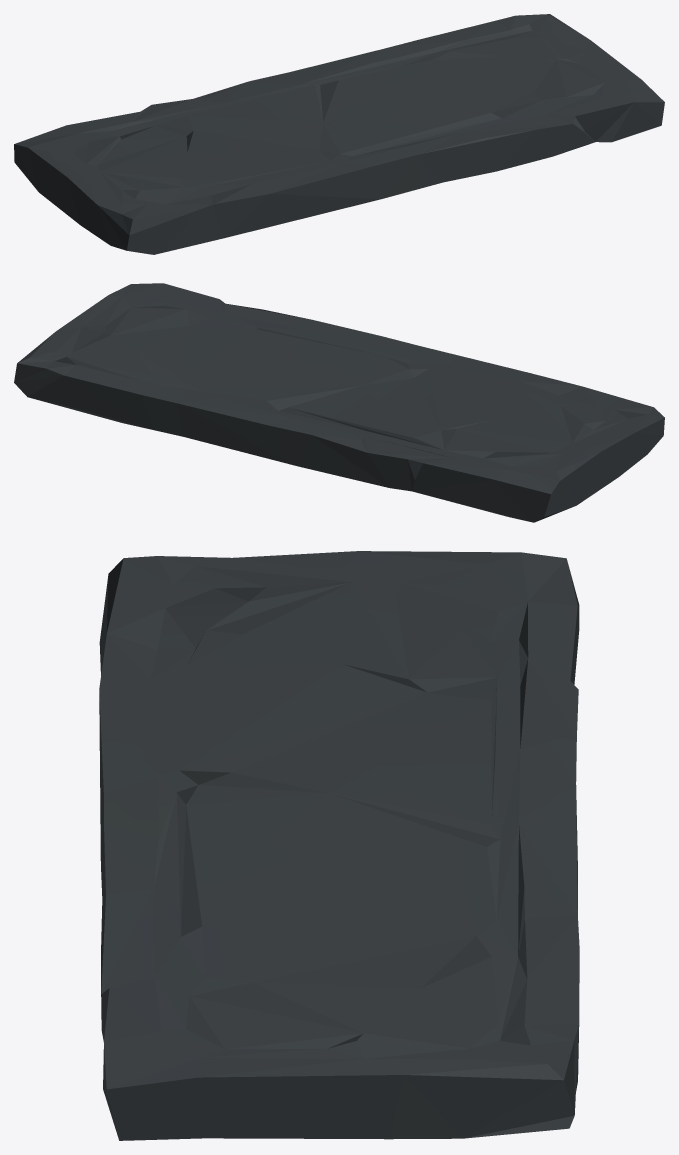
The model's file is Floor_03.FBX.
The picture shows the model from 3 angles, top to bottom: view 1: azimuth 30°, elevation 25°; view 2: azimuth 150°, elevation 25°; view 3: azimuth 270°, elevation 25°; orthographic projection. The views are drawn at different scales.
Parts seen in each view (by area): view 1: Floor_03; view 2: Floor_03; view 3: Floor_03.
Boxes of the visible parts, x1,y1,x2,y2 form: Floor_03: (14, 14, 664, 254); Floor_03: (14, 283, 664, 522); Floor_03: (99, 551, 579, 1140).
Bounding box in the file's own units: 10 × 0.6509 × 3.88.
